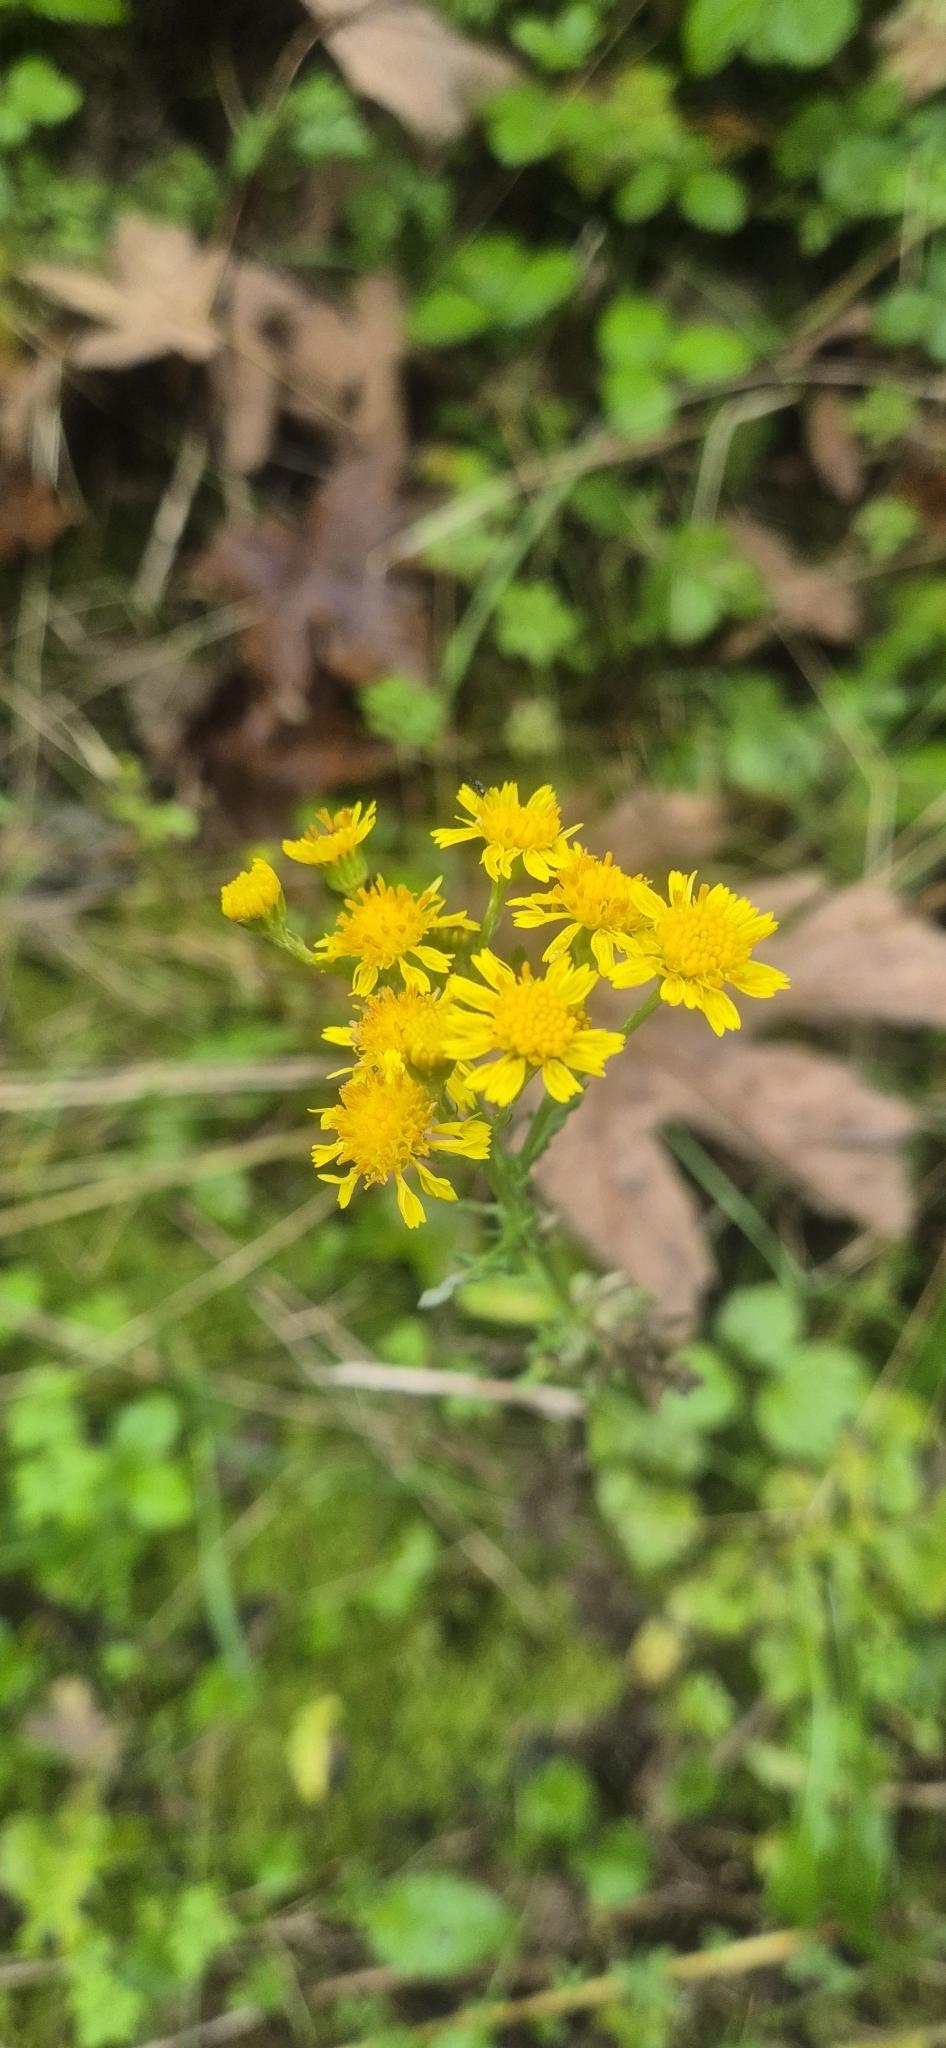Jacobaea vulgaris: (159, 741, 800, 1493)
